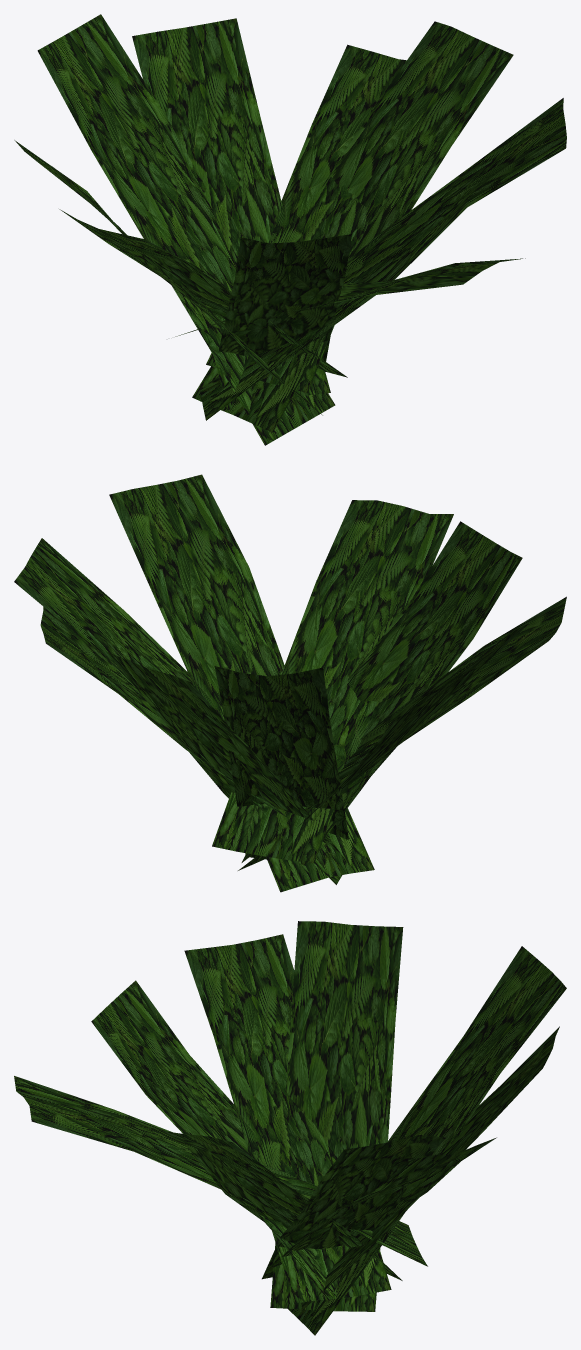
The model's file is ferns-v01-photo.glb.
The picture shows the model from 3 angles, top to bottom: view 1: azimuth 30°, elevation 25°; view 2: azimuth 150°, elevation 25°; view 3: azimuth 270°, elevation 25°; orthographic projection. The views are drawn at different scales.
Visible parts, largest first — view 1: ferns; view 2: ferns; view 3: ferns.
Boxes of the visible parts, x1,y1,x2,y2 form: ferns: [14, 14, 566, 445]; ferns: [14, 474, 566, 892]; ferns: [14, 921, 566, 1335].
Size of the model in its own units: 1.52 by 0.9628 by 1.57.
Materials: 1 (1 with a texture image).
